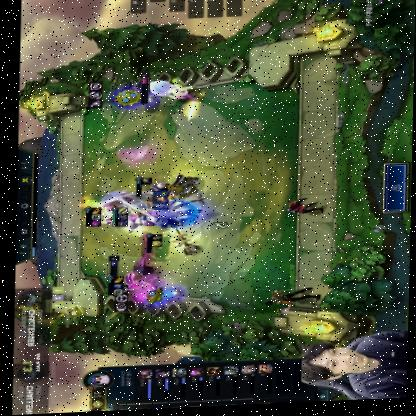streamer: (303, 333, 410, 405)
